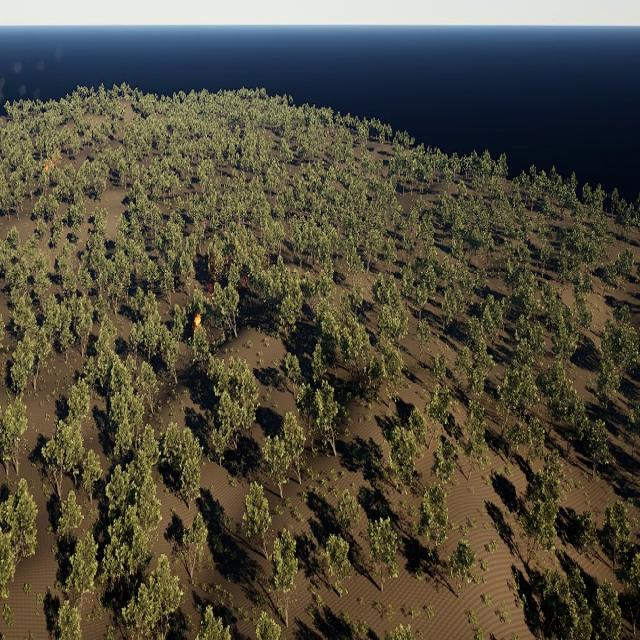fire: (193, 314, 201, 329), (45, 163, 48, 171)
smoke: (0, 45, 66, 107)
